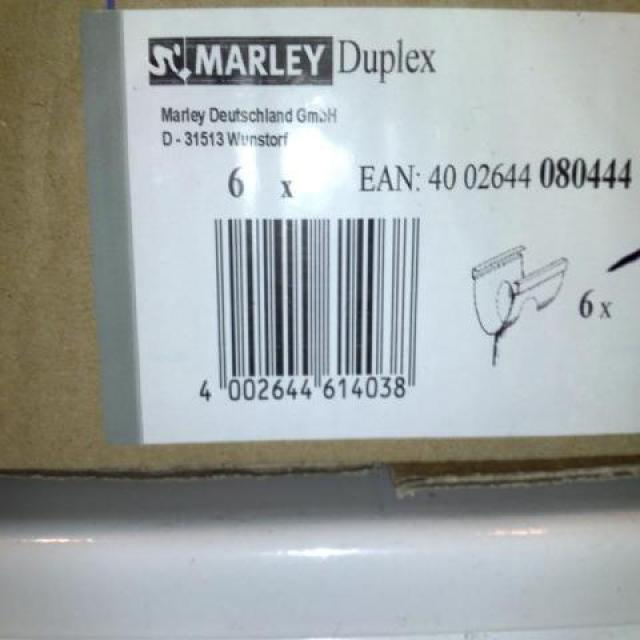Barcode: (182, 206, 447, 430)
